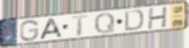A: (39, 17, 64, 41)
D: (124, 9, 145, 32)
G: (19, 19, 40, 42)
H: (147, 5, 169, 31)
Q: (94, 11, 116, 35)
T: (72, 14, 90, 37)
